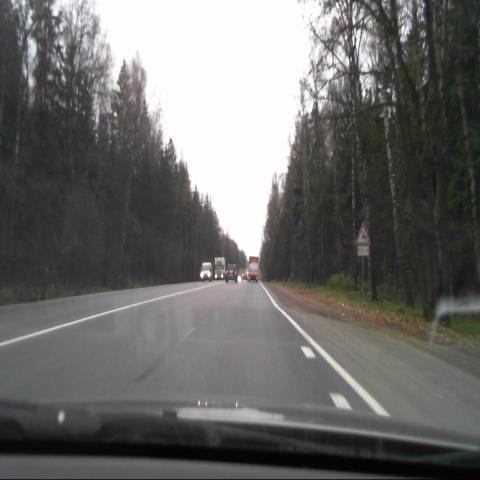1_27: (354, 220, 371, 246)
